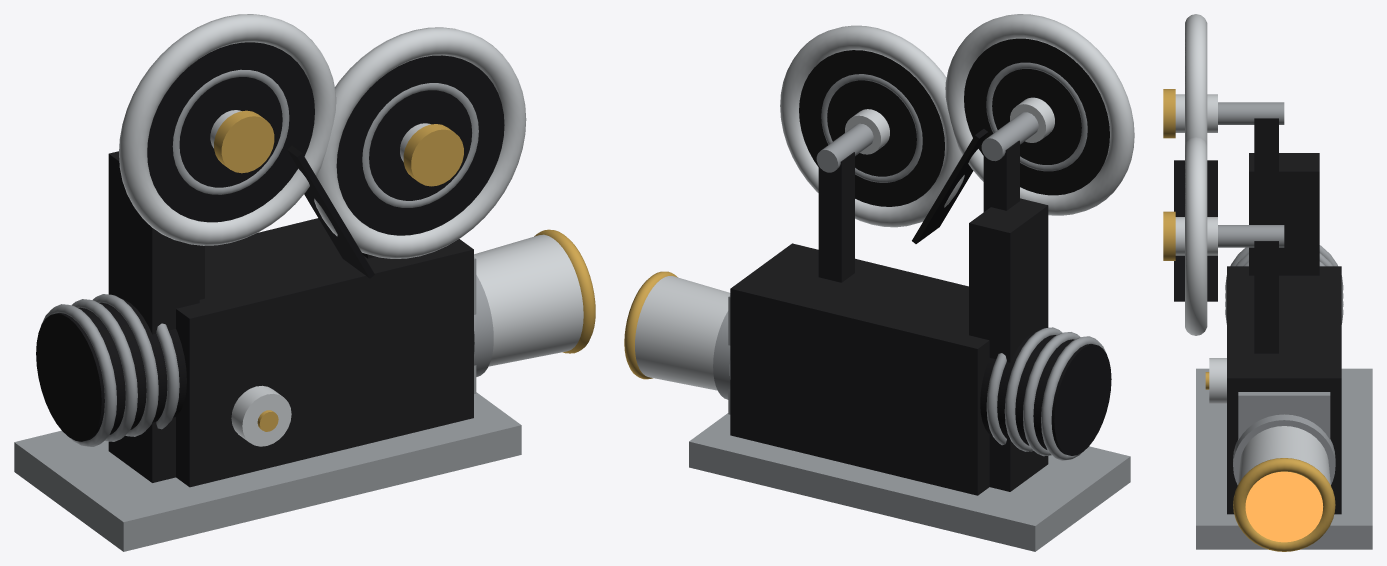
File: filmprojector.glb
3 views of the same model, side by side, from view 1: azimuth 30°, elevation 25°; view 2: azimuth 150°, elevation 25°; view 3: azimuth 270°, elevation 25° (orthographic). The views are drawn at different scales.
Visible parts, largest first — view 1: body, base, reel_takeup_plate, reel_feed_plate, reel_feed_rim, reel_takeup_rim, column, lens_barrel, lamp_house, reel_feed_cap, reel_takeup_cap, reel_feed_rim2 (+9 smaller); view 2: body, base, reel_takeup_plate, column, reel_feed_plate, reel_feed_rim, reel_takeup_rim, lamp_house, lens_barrel, arm_takeup_post, arm_feed_post, reel_takeup_rim2 (+12 smaller); view 3: body, base, column, reel_takeup_rim, lens_glow, lens_ring, front_plate, reel_feed_rim, arm_takeup_post, lens_barrel, arm_feed_post, film_thread (+9 smaller).
Part boxes in pixels (x1,y1,x2,y2): body: (176, 218, 473, 487); base: (14, 392, 521, 551); reel_takeup_plate: (336, 55, 504, 235); reel_feed_plate: (147, 42, 314, 222); reel_feed_rim: (119, 14, 336, 245); reel_takeup_rim: (314, 27, 526, 258); column: (108, 151, 199, 482); lens_barrel: (474, 234, 583, 366); lamp_house: (36, 299, 186, 441); reel_feed_cap: (214, 110, 274, 173); reel_takeup_cap: (403, 124, 463, 186); reel_feed_rim2: (172, 69, 289, 194); body: (730, 243, 989, 495); base: (689, 413, 1130, 551); reel_takeup_plate: (799, 50, 944, 206); column: (969, 198, 1048, 491); reel_feed_plate: (964, 38, 1109, 195); reel_feed_rim: (945, 14, 1134, 215); reel_takeup_rim: (780, 25, 964, 227); lamp_house: (980, 332, 1111, 455); lens_barrel: (635, 276, 730, 390); arm_takeup_post: (818, 152, 854, 282); arm_feed_post: (983, 140, 1019, 211); reel_takeup_rim2: (821, 74, 922, 182); body: (1227, 266, 1341, 514); base: (1196, 368, 1372, 549); column: (1249, 153, 1319, 275); reel_takeup_rim: (1185, 136, 1207, 335); lens_glow: (1245, 471, 1323, 542); lens_ring: (1233, 458, 1335, 551); front_plate: (1238, 392, 1330, 439); reel_feed_rim: (1185, 14, 1207, 144); arm_takeup_post: (1254, 241, 1278, 353); lens_barrel: (1237, 426, 1330, 485); arm_feed_post: (1254, 118, 1278, 224); film_thread: (1174, 160, 1217, 301).
Bounding box in the file's own units: 0.529 × 0.516 × 0.237.
